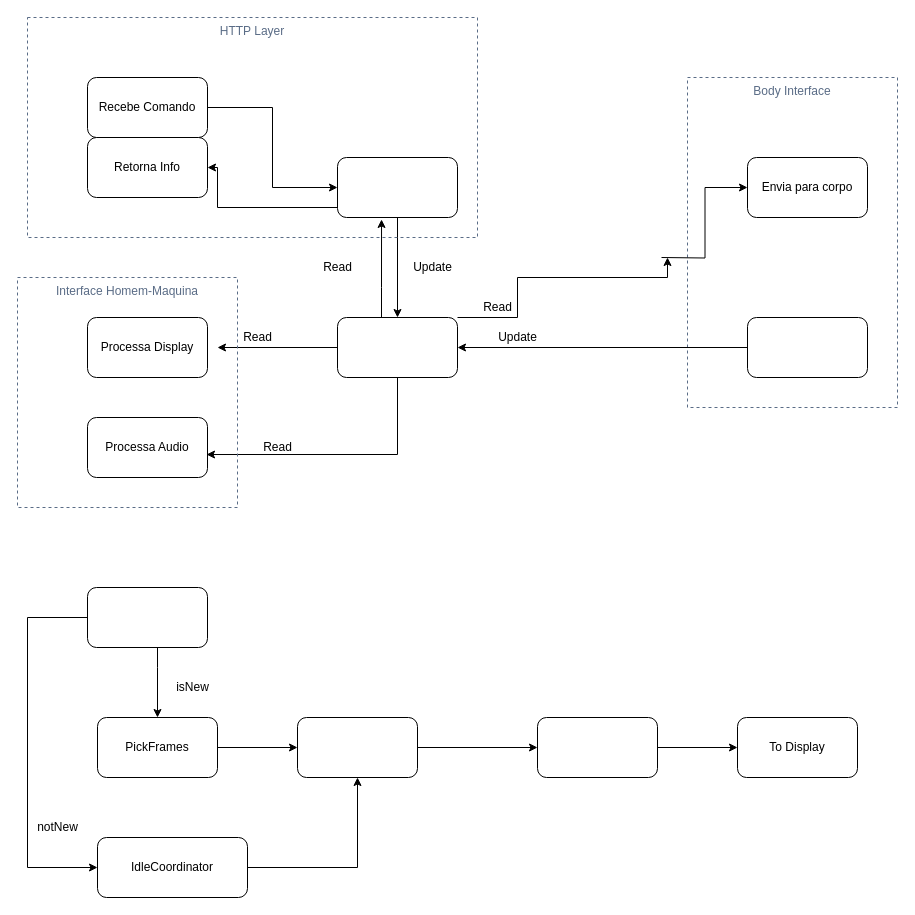
This 915x915 diagram has some shape labels left out. Here are the shapes that lost their labels. From the top down, the centre of each, then its label:
the point at 397,187: Processa Comando
the point at 397,347: Core State Class
the point at 807,347: Recebe resposta do corpo
the point at 147,617: getAnimationToPlay
the point at 357,747: enqueue
the point at 597,747: Player
